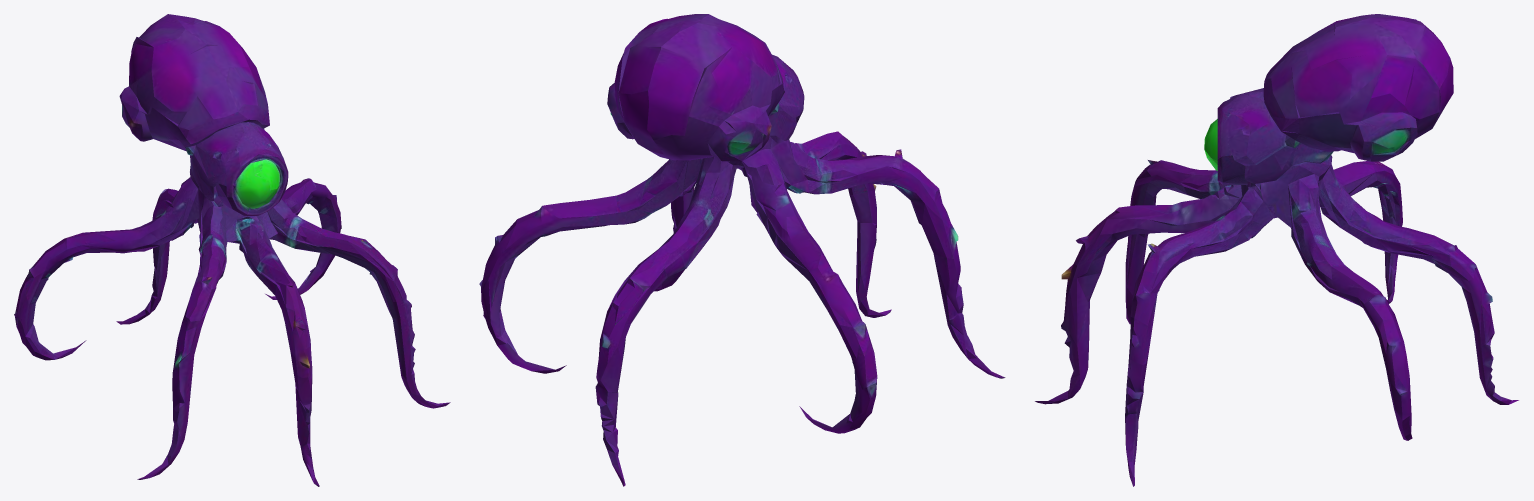
File: squid.glb
The picture shows the model from 3 angles, left to right: view 1: azimuth 30°, elevation 25°; view 2: azimuth 150°, elevation 25°; view 3: azimuth 270°, elevation 25°; orthographic projection. The views are drawn at different scales.
Size of the model in its own units: 1.69 by 1.7 by 1.91.
1 material, 1 textured.
